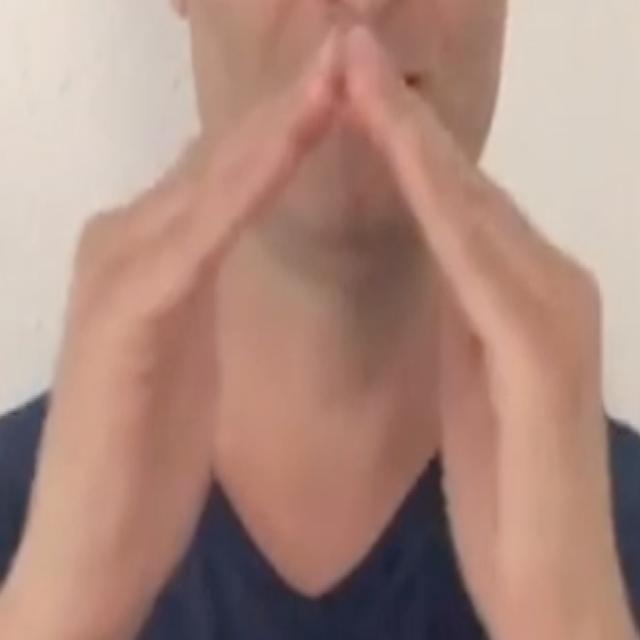casa: (3, 26, 630, 634)
